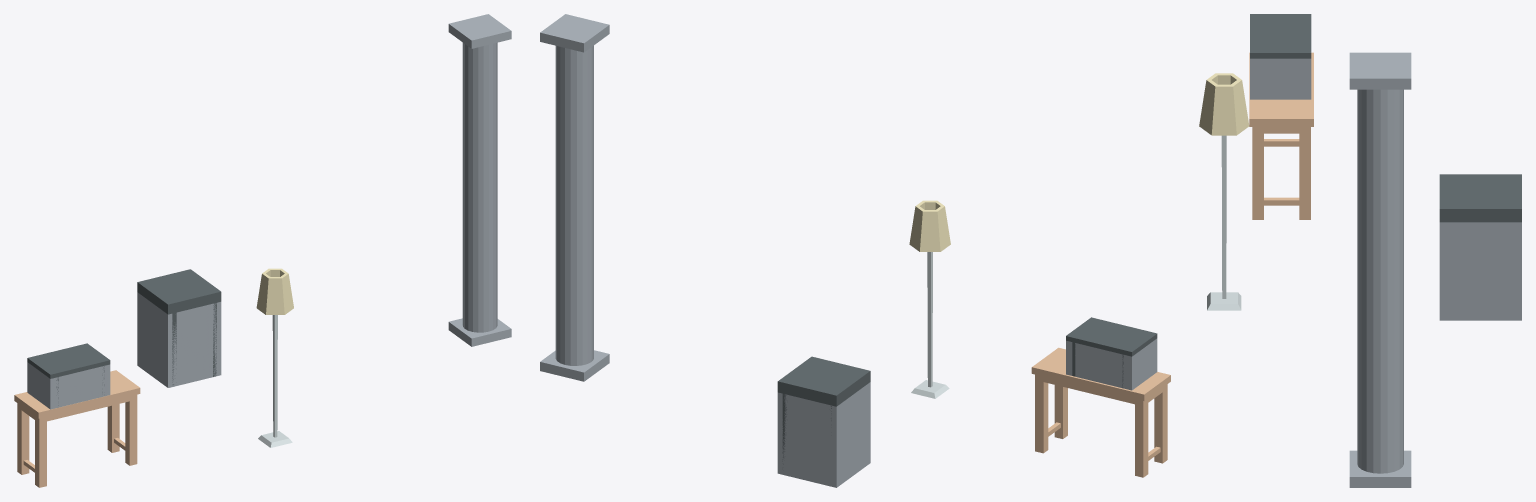
3 views of the same model, side by side, from view 1: azimuth 30°, elevation 25°; view 2: azimuth 150°, elevation 25°; view 3: azimuth 270°, elevation 25° (orthographic). The views are drawn at different scales.
Parts seen in each view (by area): view 1: column_cyan__column_cyan shaft, bin_gray__bin_gray shell, sidetable_brown__sideTable(Clone), case_brown__case_brown shell, bin_gray__bin_gray lid, lamp_white__lampRoundFloor(Clone), case_brown__case_brown lid, column_cyan__column_cyan capital, column_cyan__column_cyan plinth; view 2: column_cyan__column_cyan shaft, bin_gray__bin_gray shell, sidetable_brown__sideTable(Clone), case_brown__case_brown shell, lamp_white__lampRoundFloor(Clone), bin_gray__bin_gray lid, case_brown__case_brown lid, column_cyan__column_cyan capital, column_cyan__column_cyan plinth; view 3: column_cyan__column_cyan shaft, bin_gray__bin_gray shell, sidetable_brown__sideTable(Clone), lamp_white__lampRoundFloor(Clone), bin_gray__bin_gray lid, case_brown__case_brown lid, case_brown__case_brown shell, column_cyan__column_cyan capital, column_cyan__column_cyan plinth.
Boxes of the visible parts, <box> form: column_cyan__column_cyan shaft: <box>462,42,497,332</box>; bin_gray__bin_gray shell: <box>137,292,221,387</box>; sidetable_brown__sideTable(Clone): <box>14,370,140,487</box>; case_brown__case_brown shell: <box>27,362,110,409</box>; bin_gray__bin_gray lid: <box>137,269,221,314</box>; lamp_white__lampRoundFloor(Clone): <box>256,268,293,447</box>; case_brown__case_brown lid: <box>27,343,110,378</box>; column_cyan__column_cyan capital: <box>448,14,511,48</box>; column_cyan__column_cyan plinth: <box>448,318,511,346</box>; column_cyan__column_cyan shaft: <box>555,45,593,365</box>; bin_gray__bin_gray shell: <box>777,382,870,487</box>; sidetable_brown__sideTable(Clone): <box>1031,347,1170,477</box>; case_brown__case_brown shell: <box>1066,338,1157,390</box>; lamp_white__lampRoundFloor(Clone): <box>909,200,950,398</box>; bin_gray__bin_gray lid: <box>777,356,870,406</box>; case_brown__case_brown lid: <box>1066,317,1157,356</box>; column_cyan__column_cyan capital: <box>540,14,609,52</box>; column_cyan__column_cyan plinth: <box>540,350,609,381</box>; column_cyan__column_cyan shaft: <box>1357,89,1403,473</box>; bin_gray__bin_gray shell: <box>1439,222,1521,320</box>; sidetable_brown__sideTable(Clone): <box>1249,52,1313,219</box>; lamp_white__lampRoundFloor(Clone): <box>1199,73,1249,310</box>; bin_gray__bin_gray lid: <box>1439,174,1521,222</box>; case_brown__case_brown lid: <box>1250,14,1311,58</box>; case_brown__case_brown shell: <box>1250,58,1311,99</box>; column_cyan__column_cyan capital: <box>1349,52,1411,89</box>; column_cyan__column_cyan plinth: <box>1349,450,1411,487</box>.
Size of the model in its own units: 3.84 by 2.2 by 1.57.
